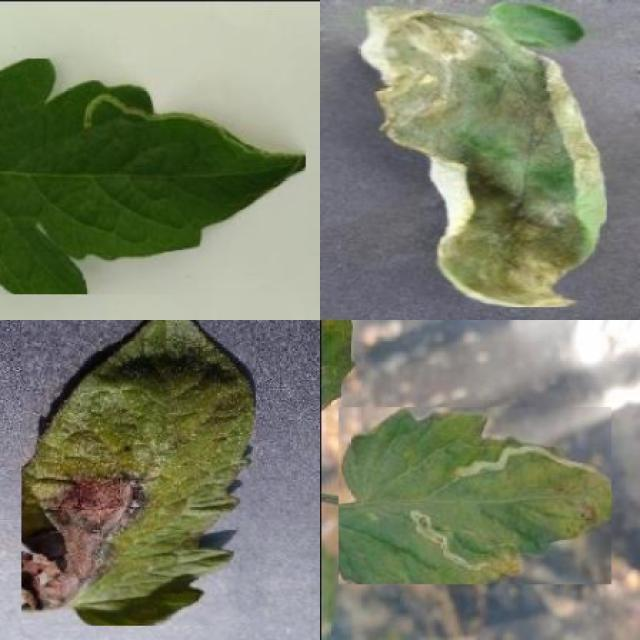Late Blight: (360, 0, 607, 307), (22, 320, 257, 626)
Leaf Miner: (1, 59, 306, 294), (338, 408, 612, 585)
